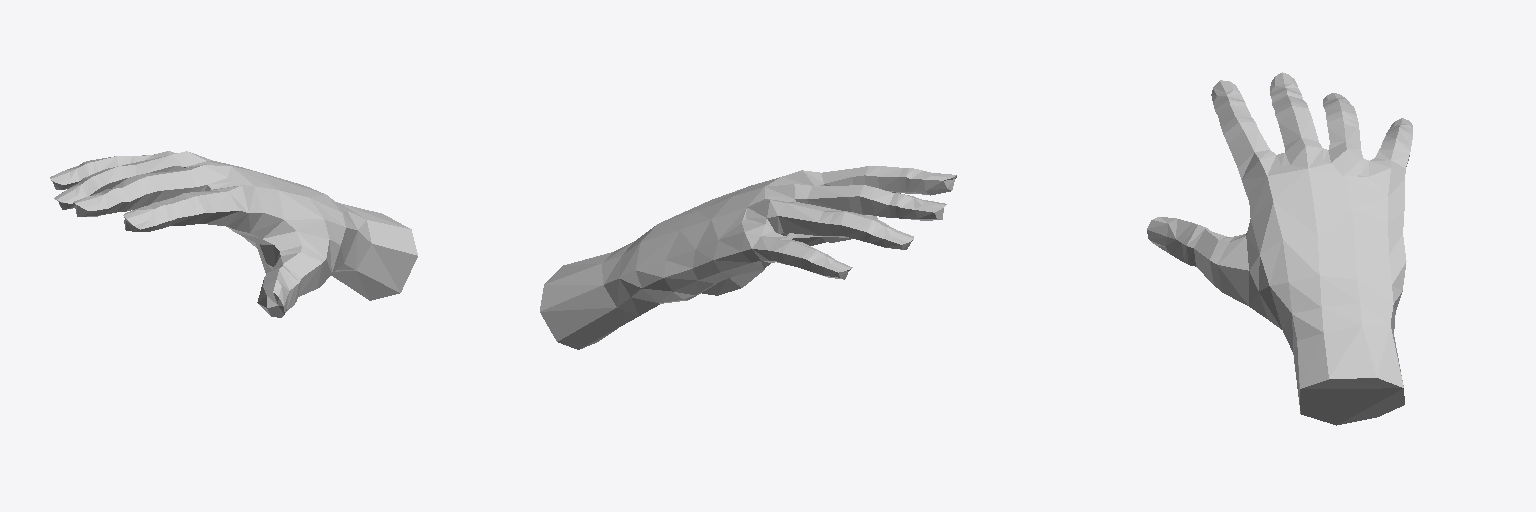
Rendered from hand.obj.
The picture shows the model from 3 angles: view 1: azimuth 30°, elevation 25°; view 2: azimuth 150°, elevation 25°; view 3: azimuth 270°, elevation 25°; orthographic projection.
Visible parts, largest first — view 1: Plane005; view 2: Plane005; view 3: Plane005.
Boxes of the visible parts, x1,y1,x2,y2 form: Plane005: [50, 151, 417, 317]; Plane005: [540, 166, 956, 349]; Plane005: [1147, 72, 1412, 425].
Bounding box in the file's own units: 0.9945 × 0.529 × 0.6377.